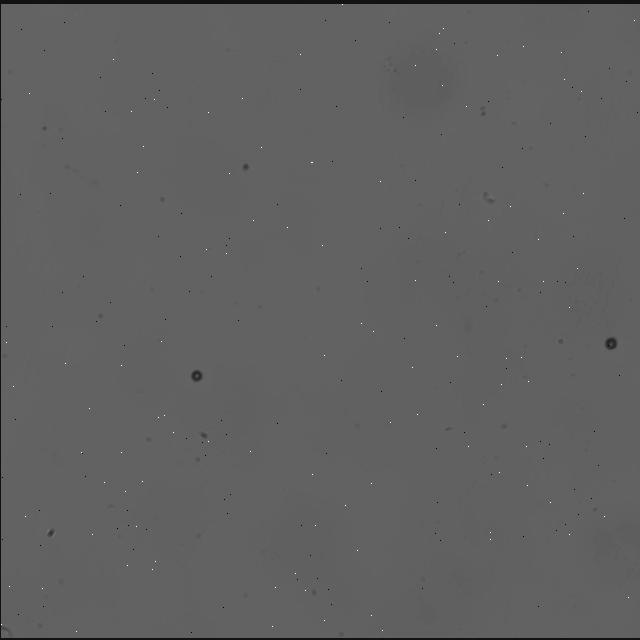microbeads: (602, 334, 618, 350), (190, 368, 202, 380)
